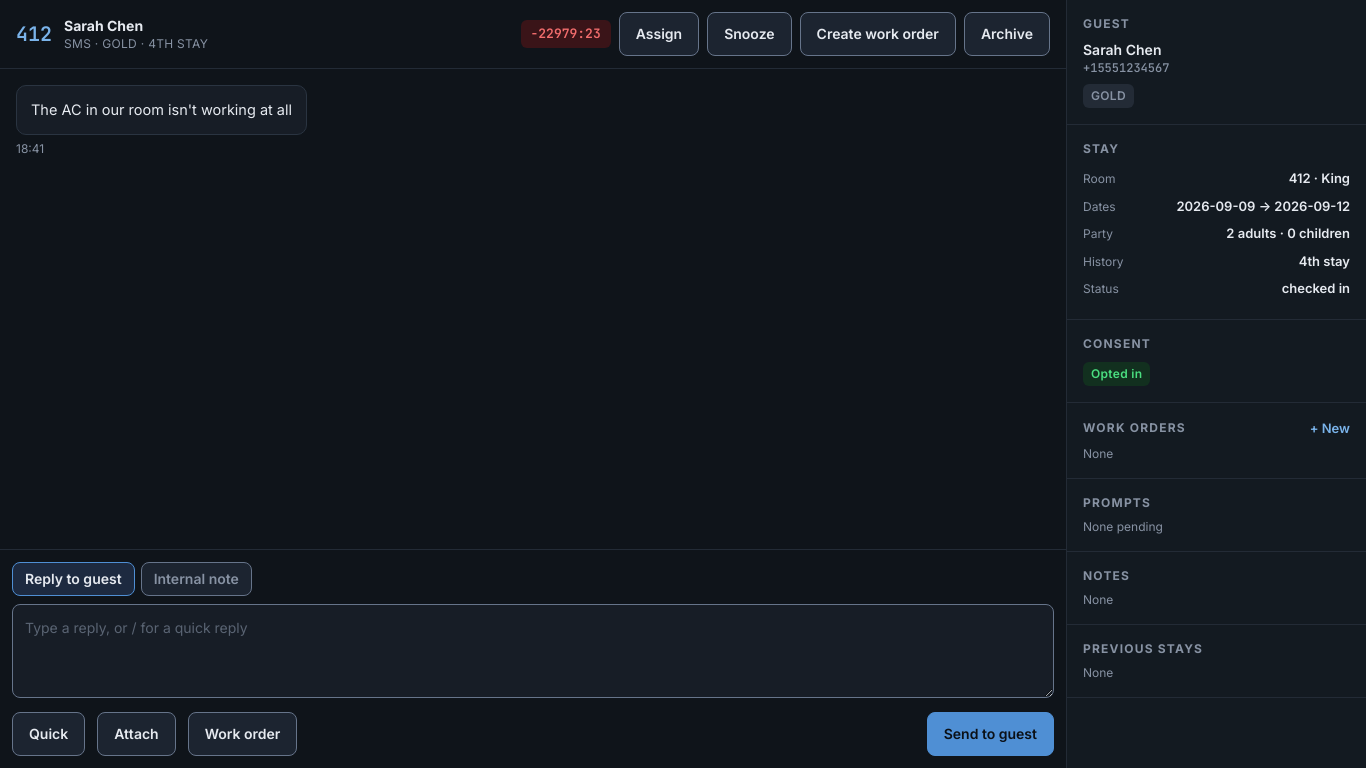
Test case: ConversationView › writes an internal note and shows it in the thread
Click the button "Internal note": click(196, 579) [141,562,252,596]
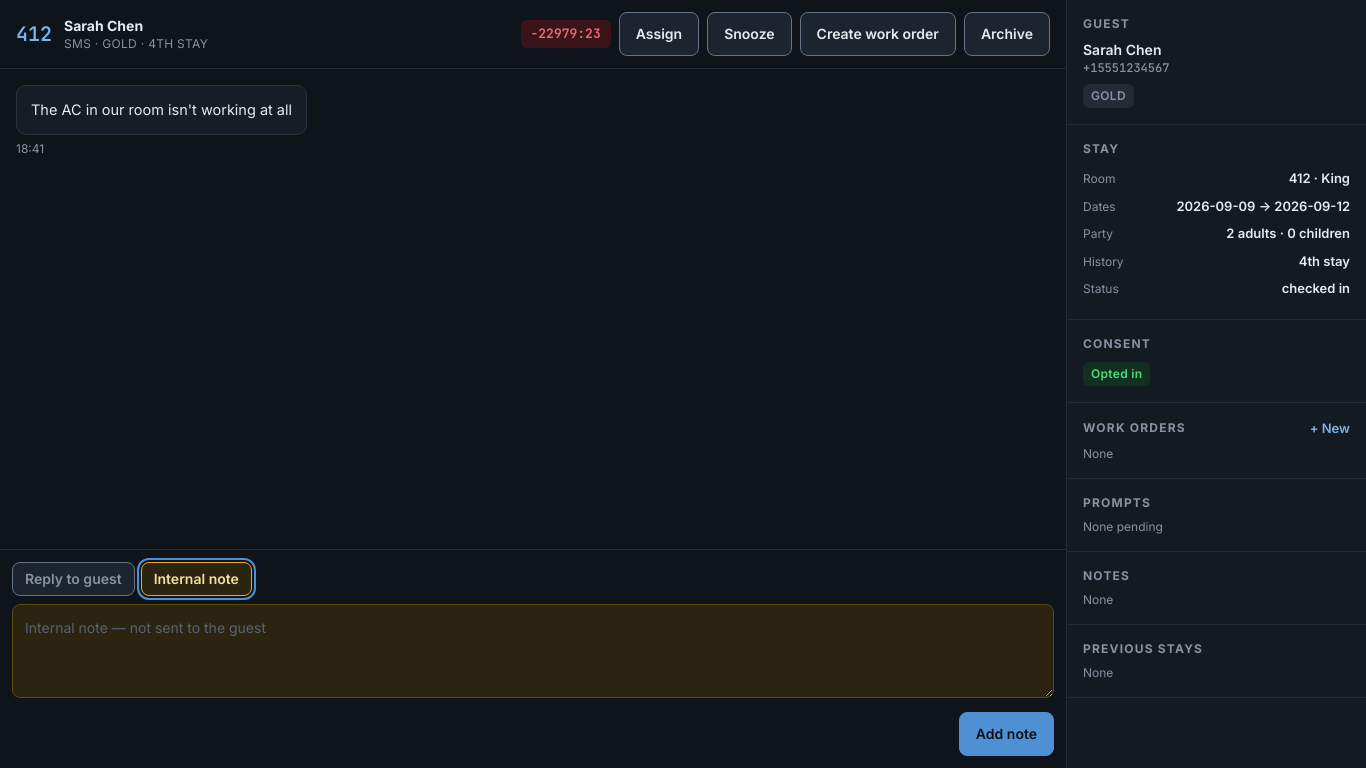
In the text box: (533, 651) [12,604,1054,698], type "Raised WO #204 to Engineering."
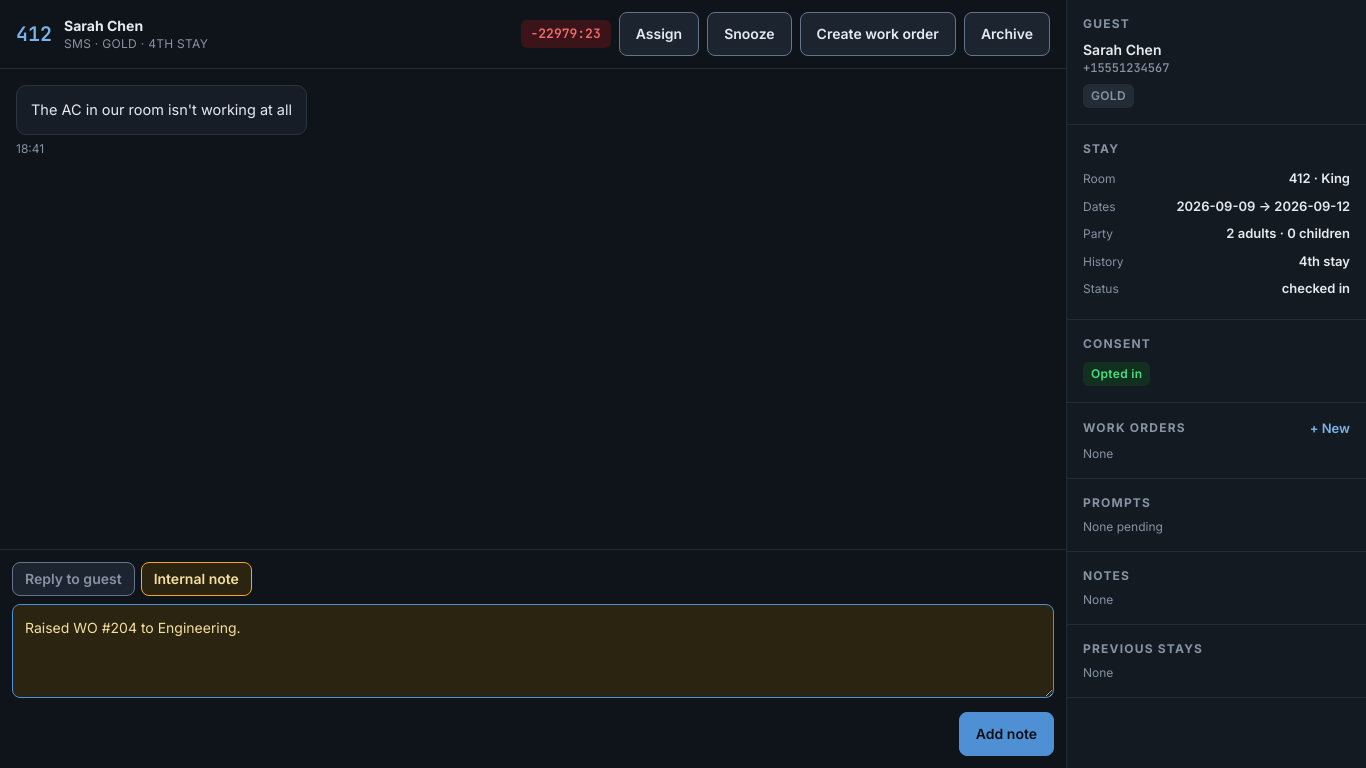
Click the button "Add note": click(1006, 734) [959,712,1054,756]
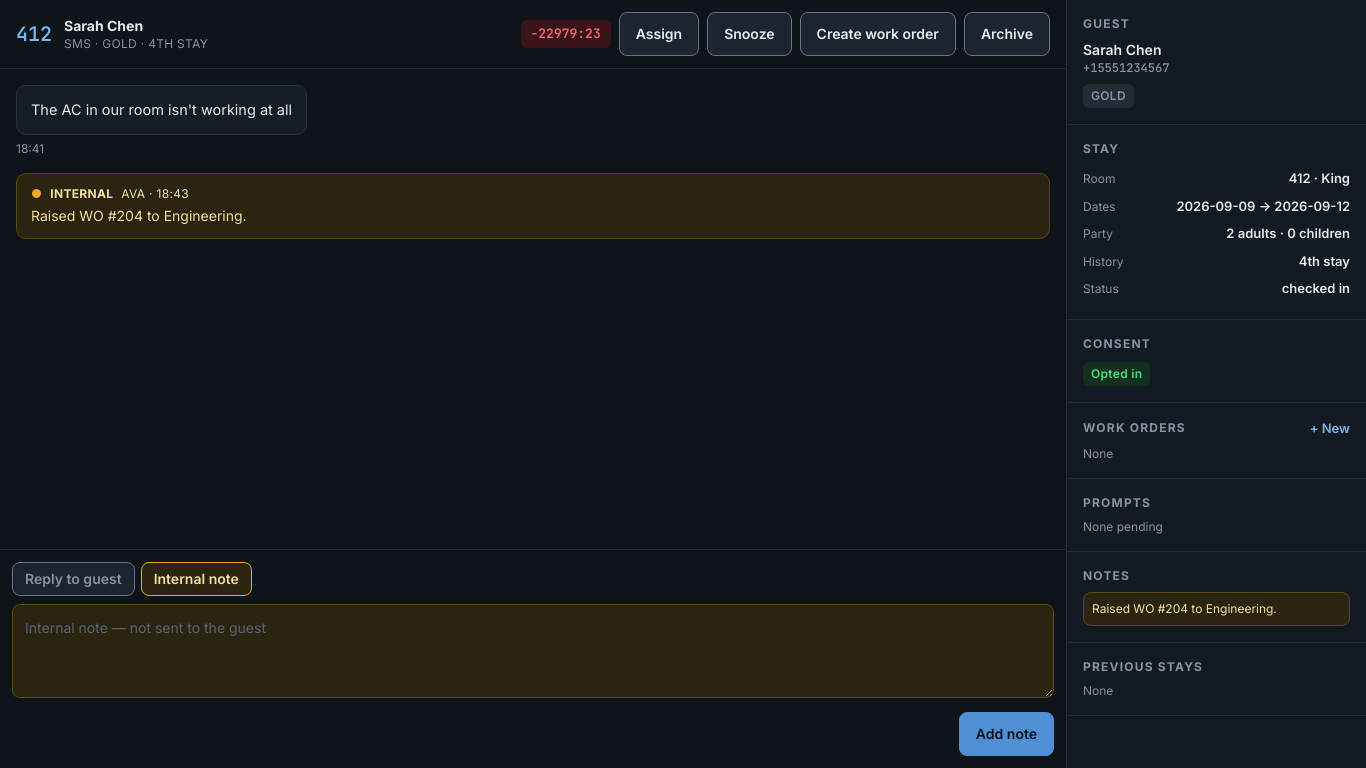
Now the element with test id "note" shows "Raised WO #204 to Engineering.", box [31,207,247,224]
